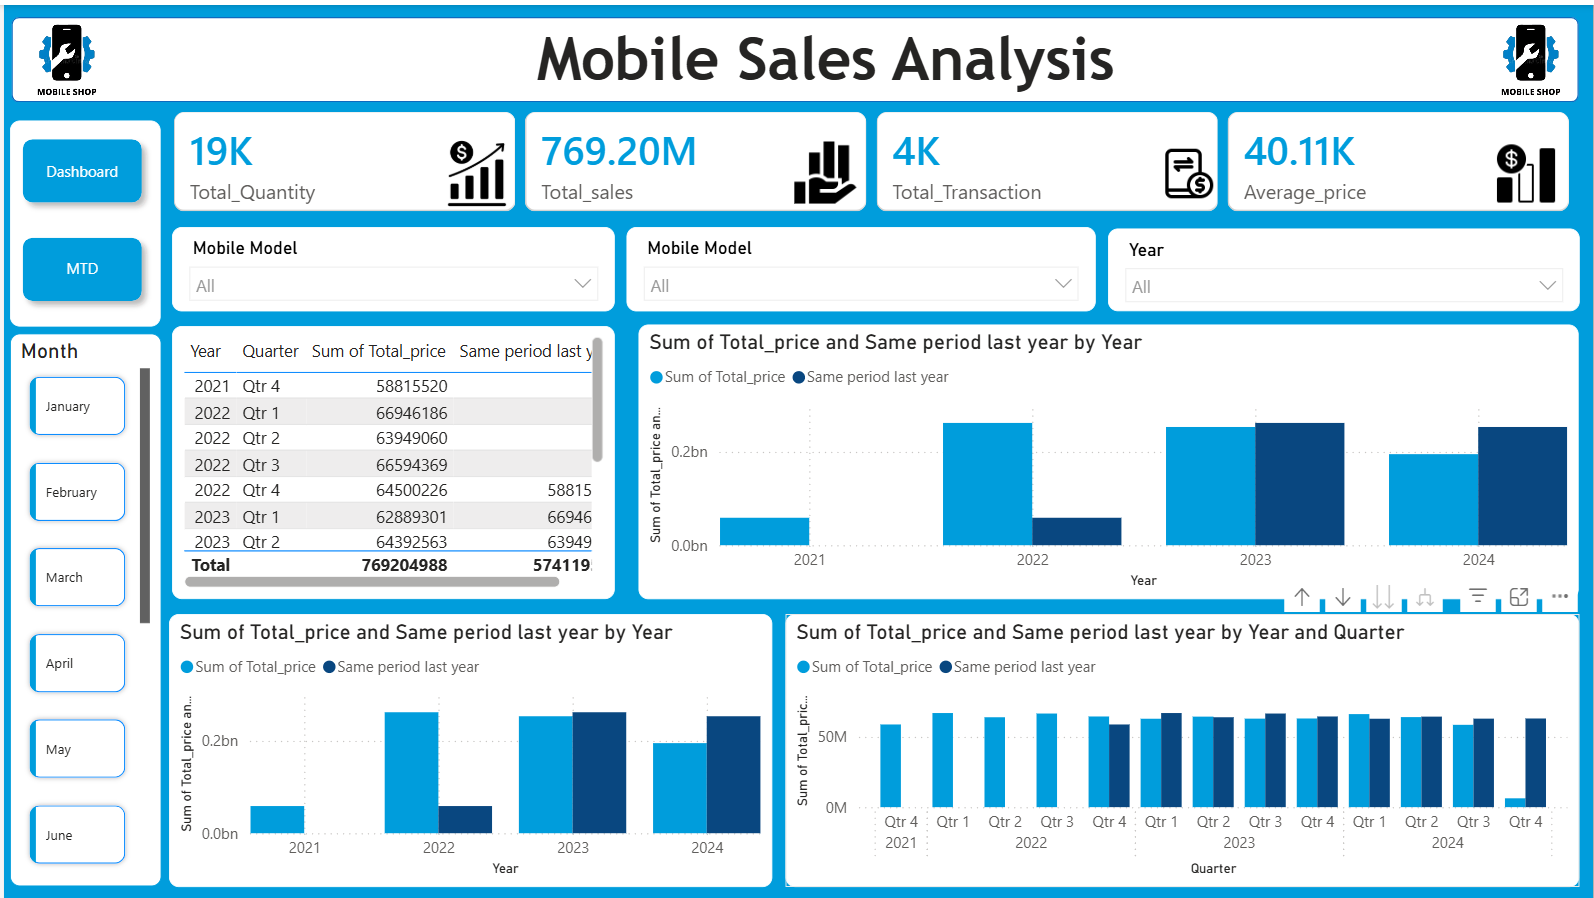

What the dashboard file says about the page in this screenshot:
{"tool":"powerbi","page":{"name":"Same period lastyear","canvas":[1280,720],"ordinal":2},"visuals":[{"type":"shape","box":[6.2,10,1262.5,68.8],"z":0},{"type":"slicer","fields":{"Values":["mobile_Sales.Mobile Model"]},"box":[135.6,178.9,356.7,67.8],"z":1000},{"type":"slicer","fields":{"Values":["mobile_Sales.Mobile Model"]},"box":[501.1,178.9,377.8,67.8],"z":2000},{"type":"slicer","fields":{"Values":["Custom calander.Date.Variation.Date Hierarchy.Year"]},"box":[888.9,180,380,66.7],"z":3000},{"type":"cardVisual","fields":{"Data":["mobile_Sales.Total_Quantity","mobile_Sales.Total_sales","mobile_Sales.Total_Transaction","mobile_Sales.Average_price"]},"box":[120,68.6,1160,114.3],"z":4000},{"type":"textbox","box":[318.6,10,685.7,115.7],"z":5000},{"type":"image","box":[1201.4,102.9,50,65.7],"z":6000},{"type":"image","box":[618.6,110,85.7,50],"z":7000},{"type":"image","box":[348.6,108.6,65.7,54.3],"z":8000},{"type":"image","box":[932.9,98.6,42.9,72.9],"z":9000},{"type":"shape","box":[5,92.5,121.5,166],"z":10000},{"type":"advancedSlicerVisual","fields":{"Values":["Custom calander.Date.Variation.Date Hierarchy.Month"]},"box":[5,264.5,122,445.5],"z":11000},{"type":"tableEx","fields":{"Values":["Custom calander.Date.Variation.Date Hierarchy.Year","Custom calander.Date.Variation.Date Hierarchy.Quarter","Sum(mobile_Sales.Total_price)","mobile_Sales.Same period last year"]},"box":[135.3,258.6,356.5,219.9],"z":12000},{"type":"clusteredColumnChart","fields":{"Category":["Custom calander.Date.Variation.Date Hierarchy.Year","Custom calander.Date.Variation.Date Hierarchy.Quarter"],"Y":["Sum(mobile_Sales.Total_price)","mobile_Sales.Same period last year"]},"box":[511.1,257.4,757.6,221.1],"z":13000},{"type":"clusteredColumnChart","fields":{"Y":["Sum(mobile_Sales.Total_price)","mobile_Sales.Same period last year"],"Category":["Custom calander.Date.Variation.Date Hierarchy.Year","Custom calander.Date.Variation.Date Hierarchy.Quarter","Custom calander.Date.Variation.Date Hierarchy.Month","Custom calander.Date.Variation.Date Hierarchy.Day"]},"box":[132.9,490.6,485.7,219.9],"z":14000},{"type":"clusteredColumnChart","fields":{"Category":["Custom calander.Date.Variation.Date Hierarchy.Year","Custom calander.Date.Variation.Date Hierarchy.Quarter"],"Y":["Sum(mobile_Sales.Total_price)","mobile_Sales.Same period last year"]},"box":[629.5,490.6,639.2,219.9],"z":15000},{"type":"pageNavigator","box":[6,99.1,114.8,149.8],"z":16000},{"type":"image","box":[0,8.8,101.2,70],"z":17000},{"type":"image","box":[1178.8,8.8,101.2,70],"z":18000}]}

Visuals, with their boxes in screenshot pixels (x1, y1, x2, y2), scaled from the page's 1280x720 canvas onto the 1594x898 screenshot:
shape: region(8, 12, 1580, 98)
slicer - mobile_Sales.Mobile Model: region(169, 223, 613, 308)
slicer - mobile_Sales.Mobile Model: region(624, 223, 1095, 308)
slicer - Custom calander.Date.Variation.Date Hierarchy.Year: region(1107, 224, 1580, 308)
cardVisual - mobile_Sales.Total_Quantity x mobile_Sales.Total_sales: region(149, 86, 1593, 228)
textbox: region(397, 12, 1251, 157)
image: region(1496, 128, 1558, 210)
image: region(770, 137, 877, 200)
image: region(434, 135, 516, 203)
image: region(1162, 123, 1215, 214)
shape: region(6, 115, 158, 322)
advancedSlicerVisual - Custom calander.Date.Variation.Date Hierarchy.Month: region(6, 330, 158, 886)
tableEx - Custom calander.Date.Variation.Date Hierarchy.Year x Custom calander.Date.Variation.Date Hierarchy.Quarter: region(168, 323, 612, 597)
clusteredColumnChart - Custom calander.Date.Variation.Date Hierarchy.Year x Custom calander.Date.Variation.Date Hierarchy.Quarter: region(636, 321, 1580, 597)
clusteredColumnChart - Sum(mobile_Sales.Total_price) x mobile_Sales.Same period last year: region(166, 612, 770, 886)
clusteredColumnChart - Custom calander.Date.Variation.Date Hierarchy.Year x Custom calander.Date.Variation.Date Hierarchy.Quarter: region(784, 612, 1580, 886)
pageNavigator: region(7, 124, 150, 310)
image: region(0, 11, 126, 98)
image: region(1468, 11, 1593, 98)
